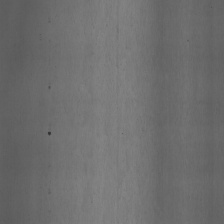oil_spot: (45, 124, 54, 142), (46, 180, 52, 196), (46, 77, 52, 89), (47, 11, 51, 23)
